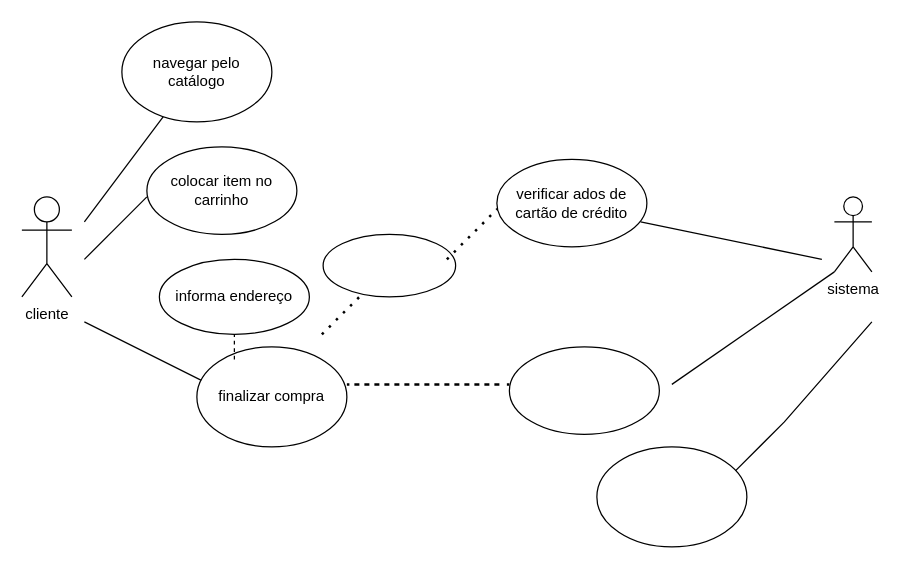
This 900x569 diagram has some shape labels left out. Each missing label, with the centre of its shape:
"enviar e-mail" belongs at pixel 671 496.
"faturar compra" belongs at pixel 583 390.
"preencher dados do cartao de credito" belongs at pixel 389 265.
